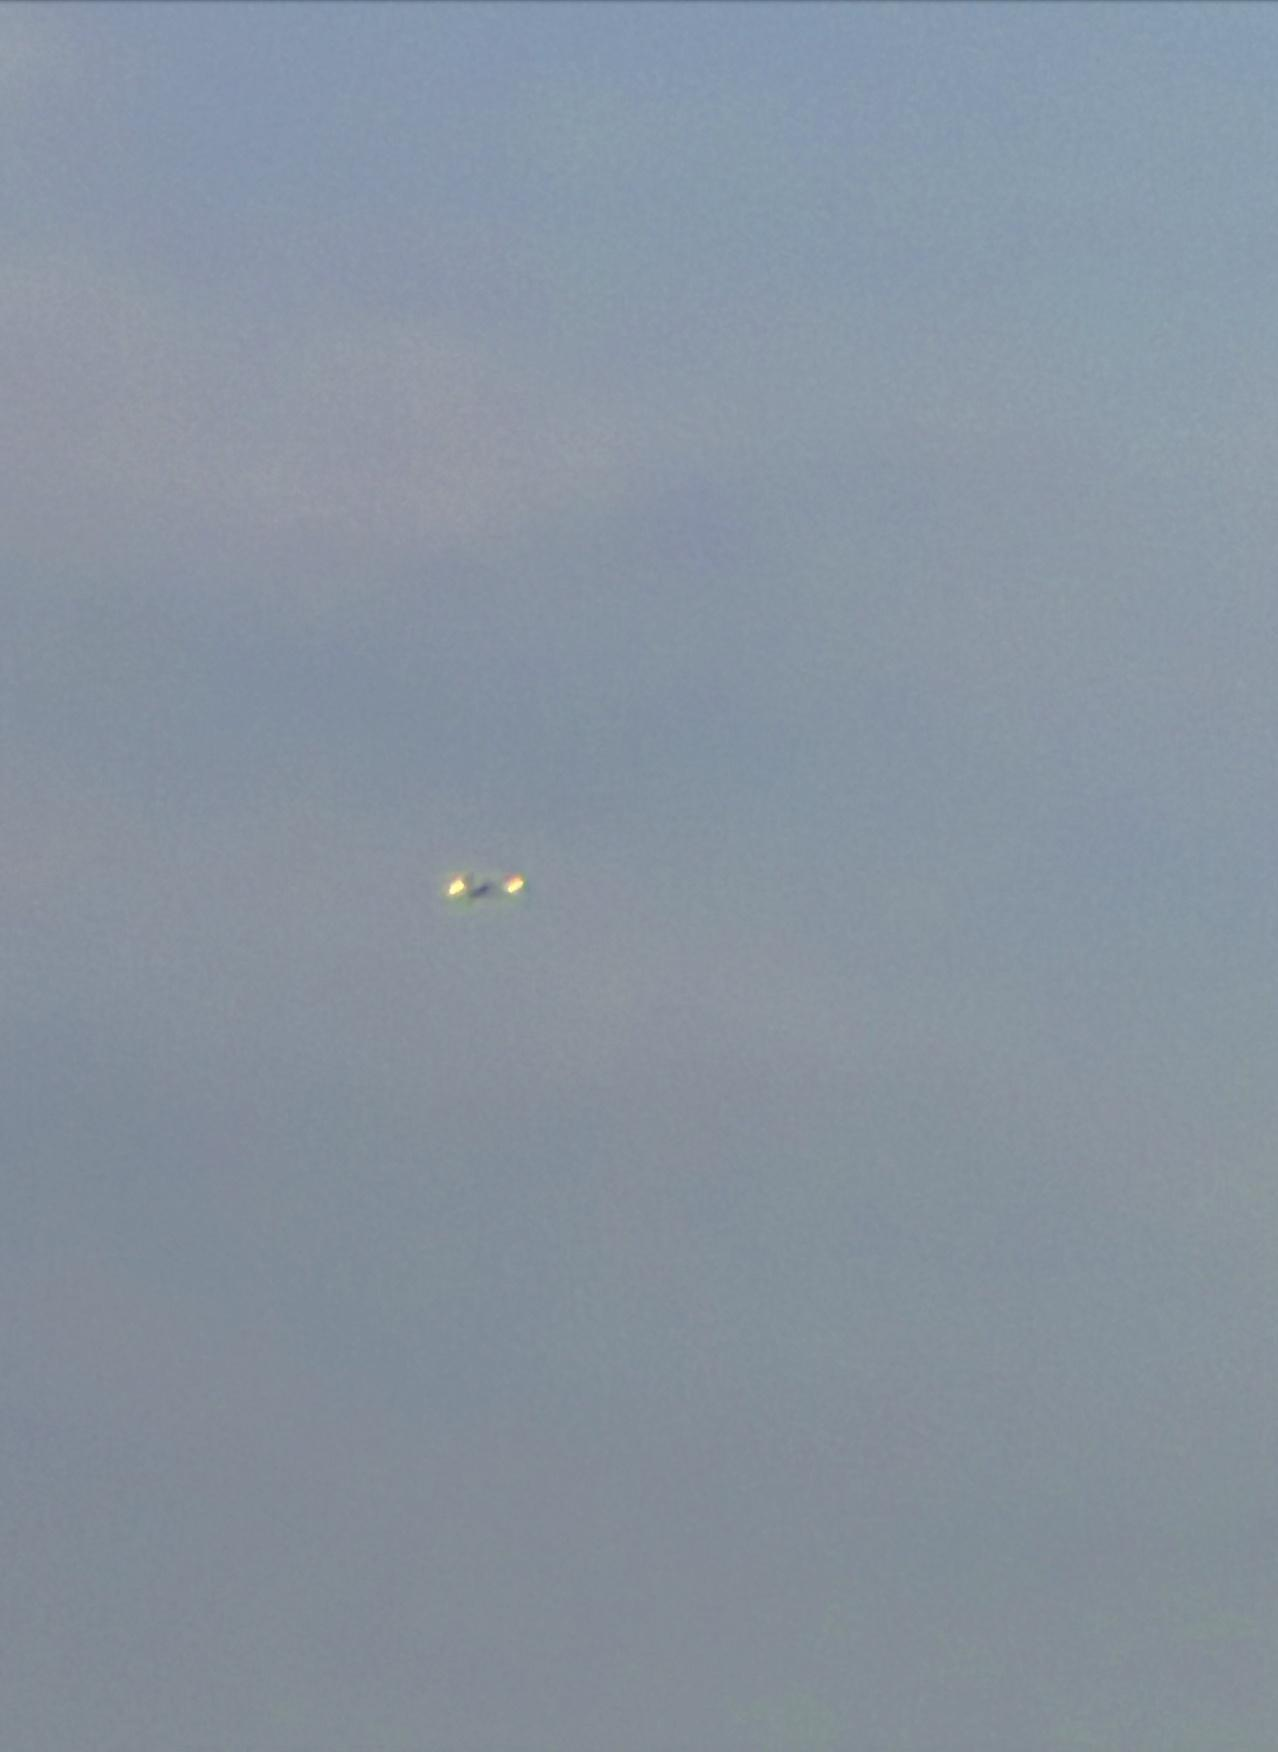Plane: (411, 832, 551, 945)
